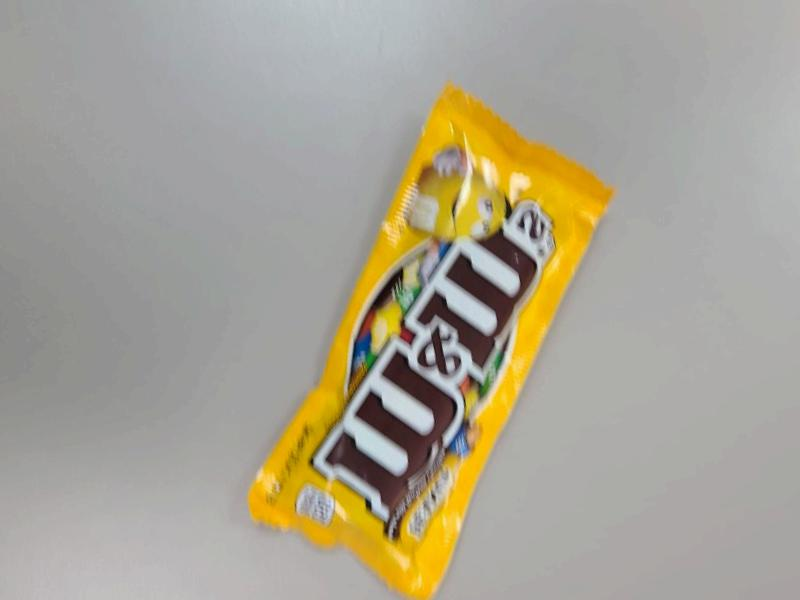m&m: (274, 99, 656, 600)
